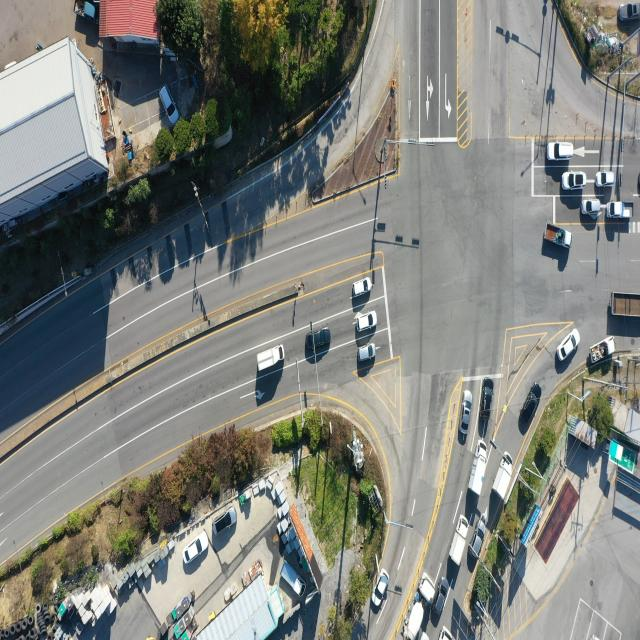car: (520, 382, 543, 423), (184, 534, 210, 567), (549, 140, 576, 168), (160, 83, 178, 124), (558, 330, 580, 362), (213, 506, 236, 536), (303, 329, 330, 354), (459, 391, 472, 442), (432, 579, 450, 614), (374, 571, 390, 608), (355, 311, 377, 333), (562, 171, 586, 191), (352, 276, 372, 298), (483, 375, 495, 411), (470, 522, 484, 552), (619, 3, 640, 21), (356, 344, 375, 363), (595, 171, 616, 188), (582, 199, 602, 216)
medium_truck: (404, 575, 437, 640), (610, 292, 640, 318)
small_truck: (468, 440, 487, 495), (448, 516, 468, 568), (493, 453, 513, 500), (258, 344, 286, 375), (281, 564, 308, 594), (590, 337, 616, 365), (544, 225, 572, 250), (72, 0, 96, 23), (610, 201, 634, 221)
